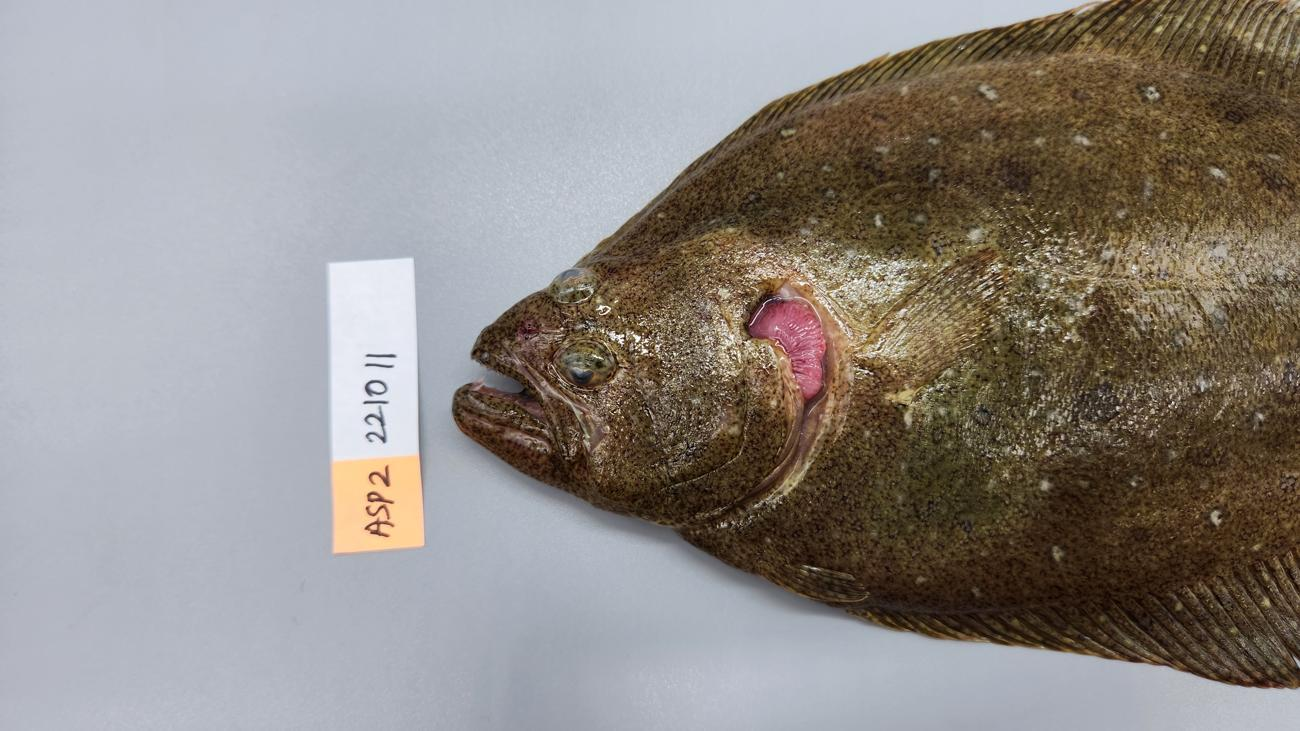SPFAH: (855, 598, 1299, 687)
